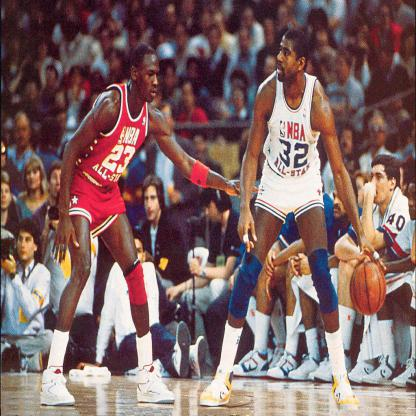face: (138, 57, 161, 103), (278, 38, 299, 82), (371, 167, 389, 207), (333, 188, 349, 221), (144, 189, 160, 221), (20, 233, 36, 262), (50, 171, 65, 199), (205, 199, 221, 223), (131, 241, 144, 269), (370, 124, 386, 146), (407, 185, 416, 222), (28, 169, 42, 191), (160, 109, 174, 130), (353, 179, 365, 203), (337, 60, 350, 82), (342, 129, 353, 153), (240, 32, 251, 56), (20, 119, 29, 148), (233, 90, 245, 111), (183, 86, 194, 108), (210, 30, 221, 50), (1, 187, 11, 207), (195, 136, 205, 155), (73, 72, 84, 88), (111, 53, 120, 72), (47, 71, 57, 85), (2, 143, 7, 167)
